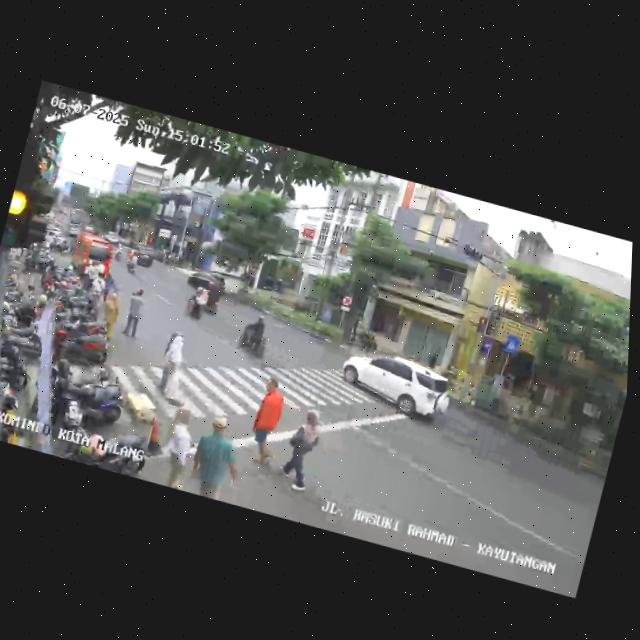car: (333, 341, 456, 431), (66, 231, 115, 278), (127, 244, 156, 271)
motorcycle: (235, 310, 273, 360), (193, 273, 228, 322), (123, 249, 142, 276)
person: (181, 413, 250, 504), (272, 402, 332, 496), (237, 374, 289, 478), (155, 404, 199, 487), (151, 328, 191, 401), (118, 284, 150, 343), (94, 288, 123, 342)
